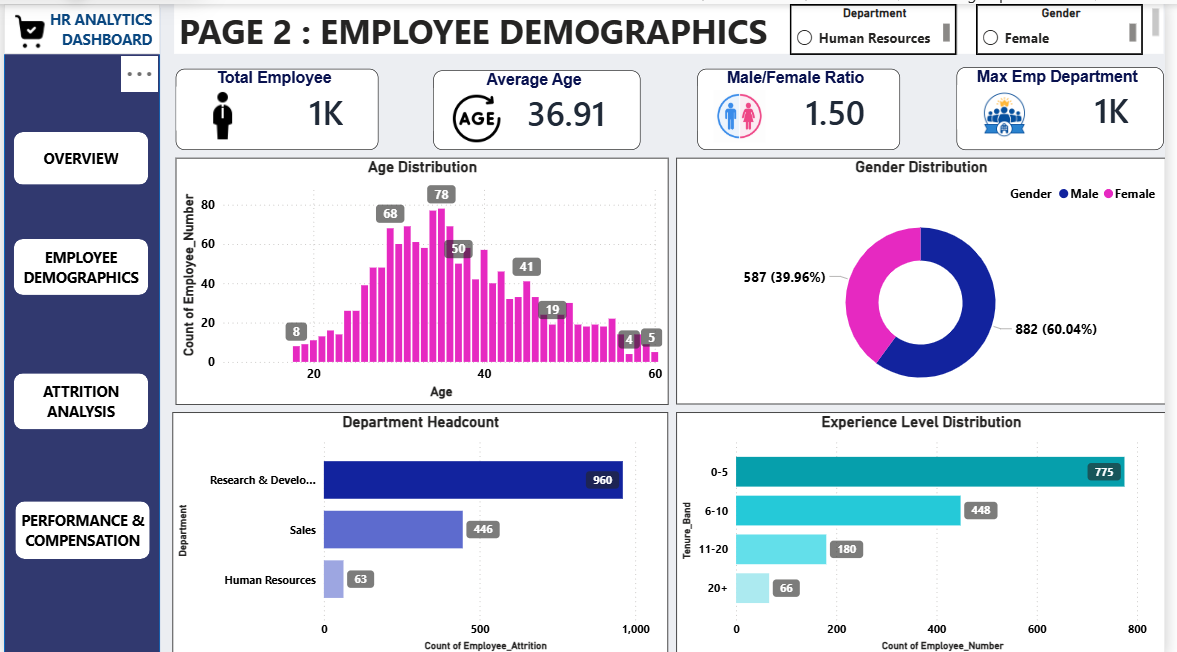

This screenshot's page, from the dashboard's own definition file:
{"tool":"powerbi","page":{"name":"Page 2","canvas":[1280,720],"ordinal":1},"visuals":[{"type":"shape","box":[0,0,172.3,720.6],"z":0},{"type":"textbox","box":[188.1,0,1091,55.2],"z":1000},{"type":"cardVisual","title":"Total Employee","fields":{"Data":["Excel_HR_Cleaned_Data.Total Employees"]},"box":[189.3,71.4,223.2,89.3],"z":2000},{"type":"cardVisual","title":"Max Emp Department","fields":{"Data":["Excel_HR_Cleaned_Data.Department with Maximum Employees"]},"box":[1050.1,69.7,228.6,91.1],"z":3000},{"type":"cardVisual","title":"Average Age","fields":{"Data":["Avg(Excel_HR_Cleaned_Data.Age)"]},"box":[473.3,73.2,228.6,87.5],"z":4000},{"type":"cardVisual","title":"Male/Female Ratio","fields":{"Data":["Excel_HR_Cleaned_Data.Male Female Ratio"]},"box":[764.4,71.4,223.2,89.3],"z":5000},{"type":"clusteredColumnChart","title":"Age Distribution","fields":{"Y":["Count(Excel_HR_Cleaned_Data.Employee_Number)"],"Category":["Excel_HR_Cleaned_Data.Age"]},"box":[189.3,169.7,543,272],"z":6000},{"type":"donutChart","title":"Gender Distribution","fields":{"Category":["Excel_HR_Cleaned_Data.Gender"],"Y":["Count(Excel_HR_Cleaned_Data.Employee_Number)"]},"box":[741.2,169.7,539.3,271.5],"z":7000},{"type":"clusteredBarChart","title":"Department Headcount","fields":{"Category":["Excel_HR_Cleaned_Data.Department"],"Y":["CountNonNull(Excel_HR_Cleaned_Data.Employee_Attrition)"]},"box":[185.7,450,546.5,269.7],"z":8000},{"type":"clusteredBarChart","title":"Experience Level Distribution","fields":{"Category":["Excel_HR_Cleaned_Data.Tenure_Band"],"Y":["Count(Excel_HR_Cleaned_Data.Employee_Number)"]},"box":[741.2,450,539.3,269.7],"z":9000},{"type":"actionButton","box":[10.6,141.2,148.3,58.2],"z":10000},{"type":"actionButton","box":[10.6,259.4,148.3,61.8],"z":11000},{"type":"actionButton","box":[10.6,407.7,148.3,61.8],"z":12000},{"type":"actionButton","box":[12.4,548.9,148.3,63.5],"z":13000},{"type":"actionButton","box":[0,0,171.4,55.4],"z":14000},{"type":"image","box":[208.8,94.7,63.8,58],"z":15000},{"type":"image","box":[491.1,100.5,59.9,52.2],"z":16000},{"type":"image","box":[777.3,94.7,67.7,58],"z":17000},{"type":"image","box":[1065.4,90.9,73.5,65.7],"z":18000},{"type":"listSlicer","fields":{"Values":["Excel_HR_Cleaned_Data.Department"]},"box":[866,0,184,56],"z":19000},{"type":"listSlicer","fields":{"Values":["Excel_HR_Cleaned_Data.Gender"]},"box":[1072,0,184,56],"z":20000}]}

Visuals, with their boxes on the page's 1280x720 design canvas (x1, y1, x2, y2). These are canvas units, not pixel positions in the 1177x652 screenshot, which may show the page scaled, cropped or inside an application window:
shape: [left=0, top=0, right=172, bottom=721]
textbox: [left=188, top=0, right=1279, bottom=55]
"Total Employee" cardVisual: [left=189, top=71, right=412, bottom=161]
"Max Emp Department" cardVisual: [left=1050, top=70, right=1279, bottom=161]
"Average Age" cardVisual: [left=473, top=73, right=702, bottom=161]
"Male/Female Ratio" cardVisual: [left=764, top=71, right=988, bottom=161]
"Age Distribution" clusteredColumnChart: [left=189, top=170, right=732, bottom=442]
"Gender Distribution" donutChart: [left=741, top=170, right=1280, bottom=441]
"Department Headcount" clusteredBarChart: [left=186, top=450, right=732, bottom=720]
"Experience Level Distribution" clusteredBarChart: [left=741, top=450, right=1280, bottom=720]
actionButton: [left=11, top=141, right=159, bottom=199]
actionButton: [left=11, top=259, right=159, bottom=321]
actionButton: [left=11, top=408, right=159, bottom=470]
actionButton: [left=12, top=549, right=161, bottom=612]
actionButton: [left=0, top=0, right=171, bottom=55]
image: [left=209, top=95, right=273, bottom=153]
image: [left=491, top=100, right=551, bottom=153]
image: [left=777, top=95, right=845, bottom=153]
image: [left=1065, top=91, right=1139, bottom=157]
listSlicer - Excel_HR_Cleaned_Data.Department: [left=866, top=0, right=1050, bottom=56]
listSlicer - Excel_HR_Cleaned_Data.Gender: [left=1072, top=0, right=1256, bottom=56]
